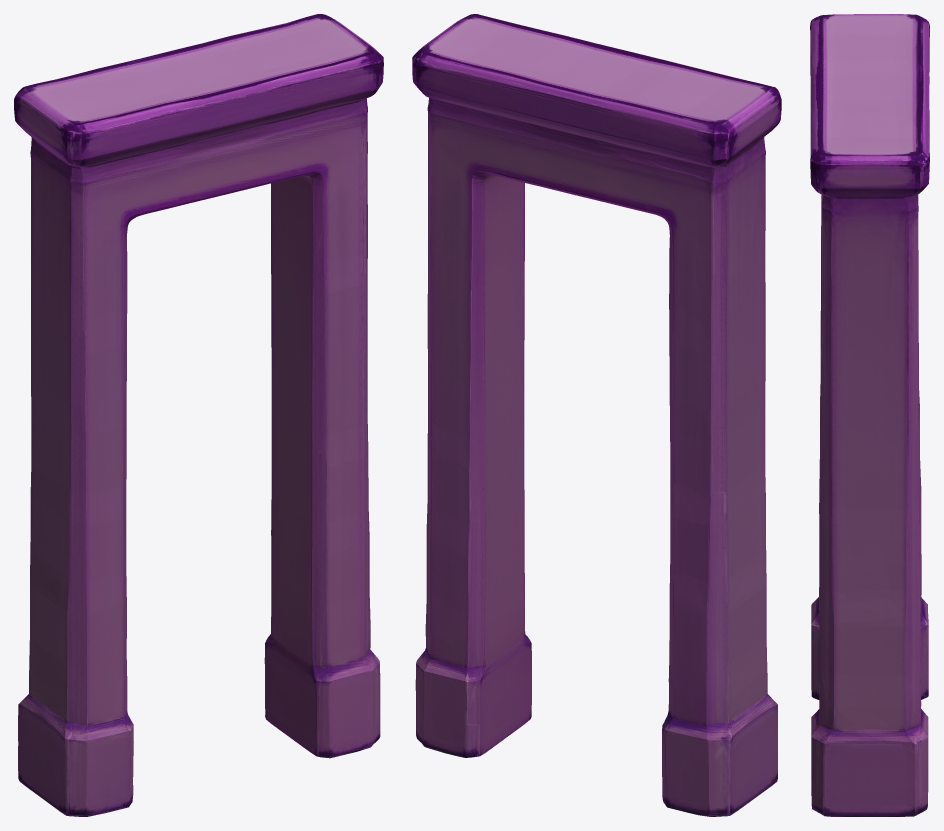
3 renders of one model, left to right at view 1: azimuth 30°, elevation 25°; view 2: azimuth 150°, elevation 25°; view 3: azimuth 270°, elevation 25°, orthographic. The views are drawn at different scales.
Parts seen in each view (by area): view 1: world; view 2: world; view 3: world.
Part boxes in pixels (left/top/right/bottom): world: left=14, top=14, right=383, bottom=816; world: left=412, top=14, right=781, bottom=816; world: left=810, top=14, right=929, bottom=816.
Size of the model in its own units: 48.12 by 99.66 by 16.41.
Materials: 1 (1 with a texture image).
